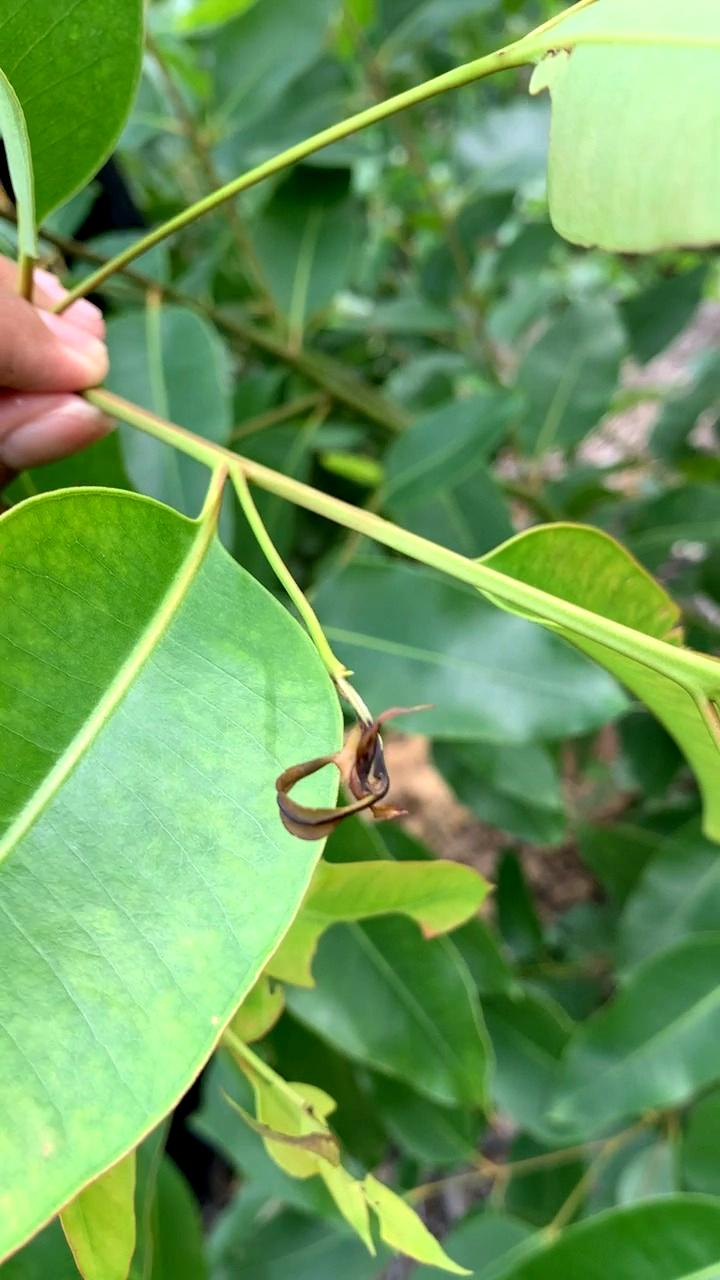Helopeltis-Withered Sprout: (273, 703, 433, 841)
